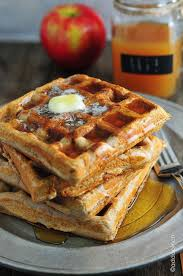apple: (41, 3, 109, 68)
